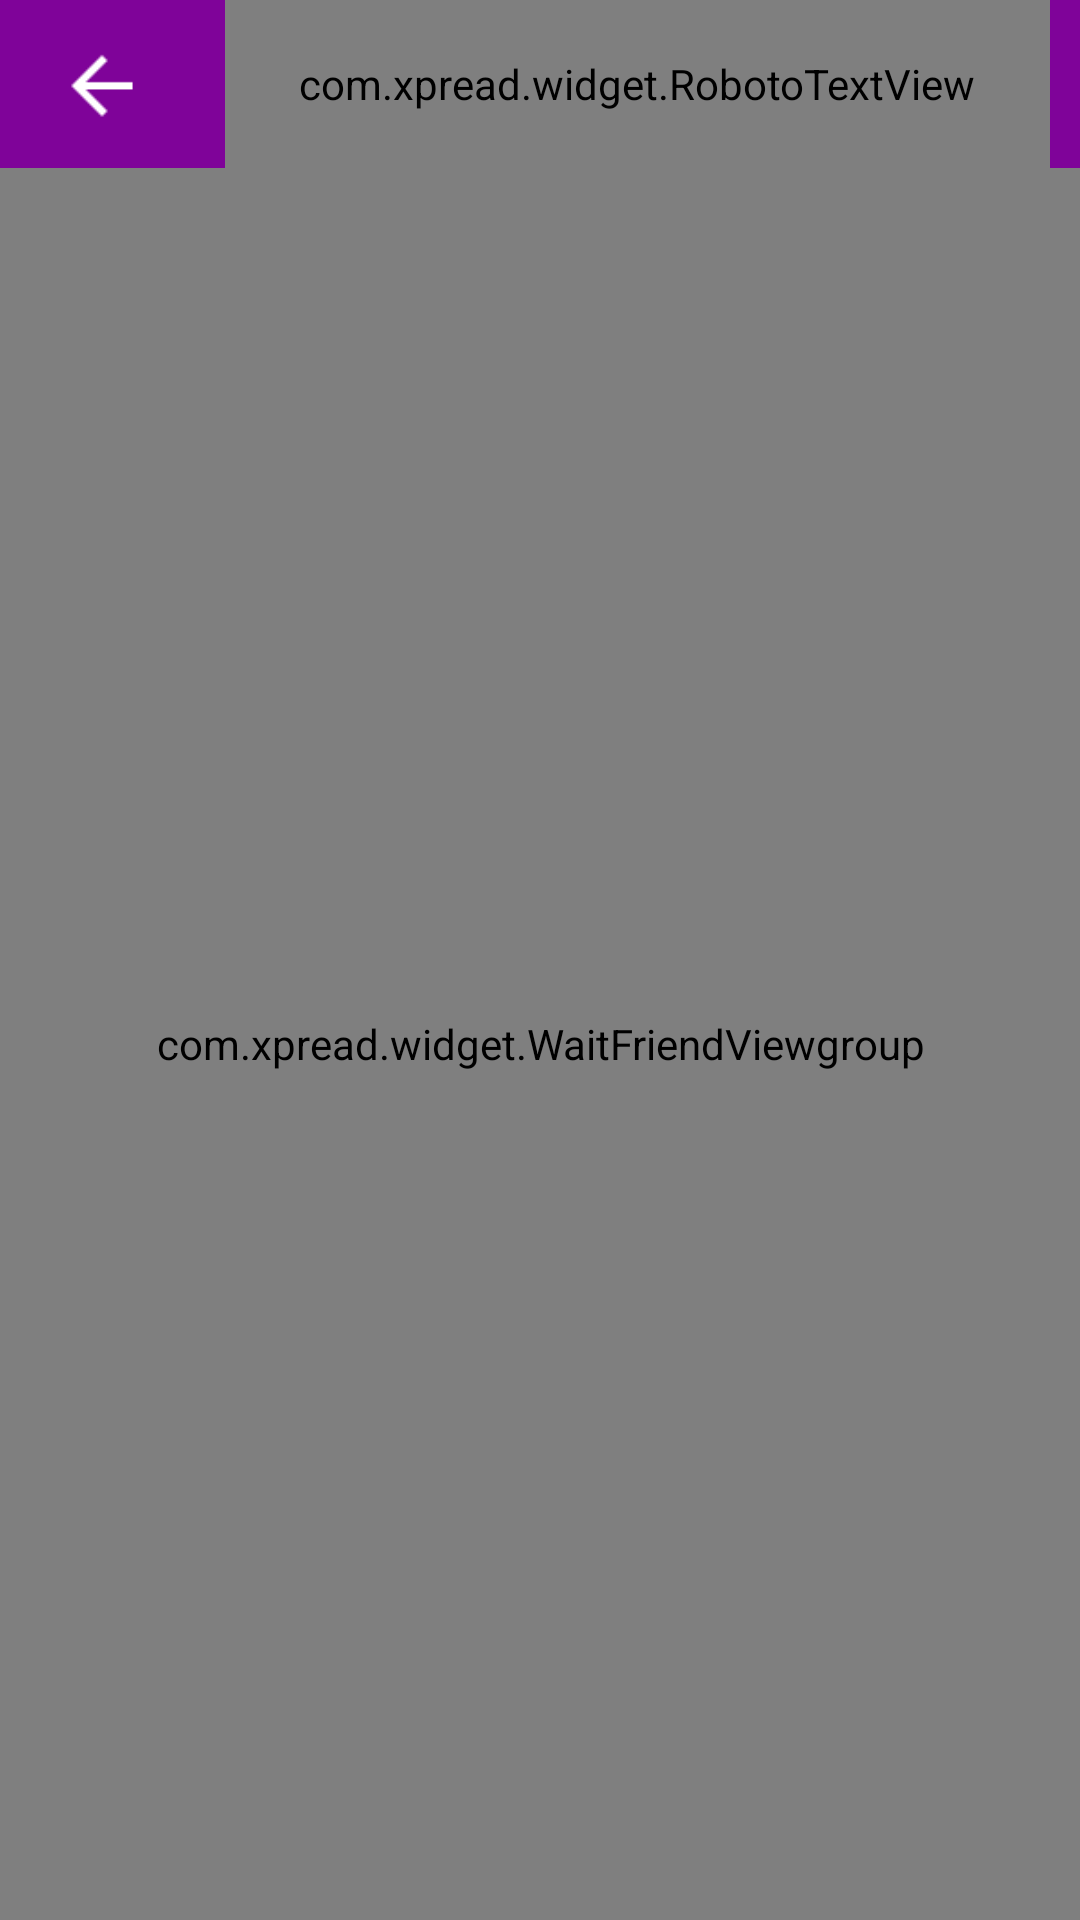

Point at icon controls on the screen. Image size 1080px x 1920px, points as point (x, y).
back: point (102, 86)
